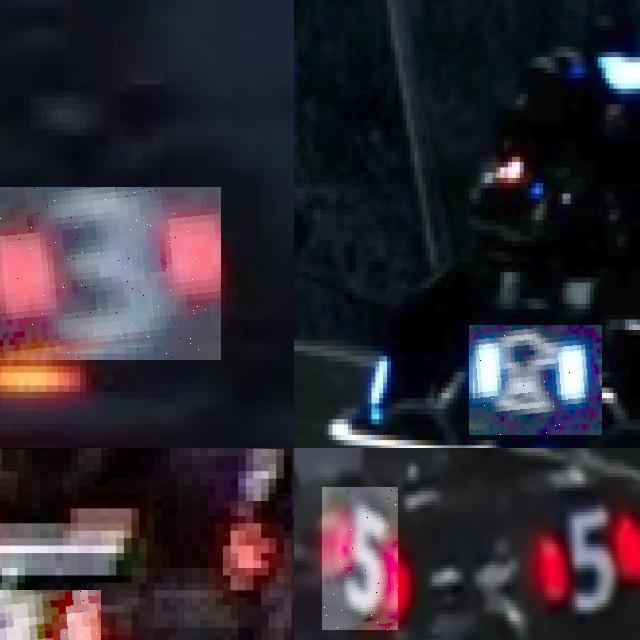Bs: (469, 325, 602, 435)
R3: (0, 187, 220, 360)
R5: (322, 488, 398, 632), (535, 505, 640, 603)
